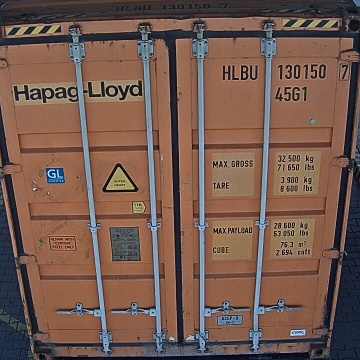serial_id: (223, 63, 350, 79)
